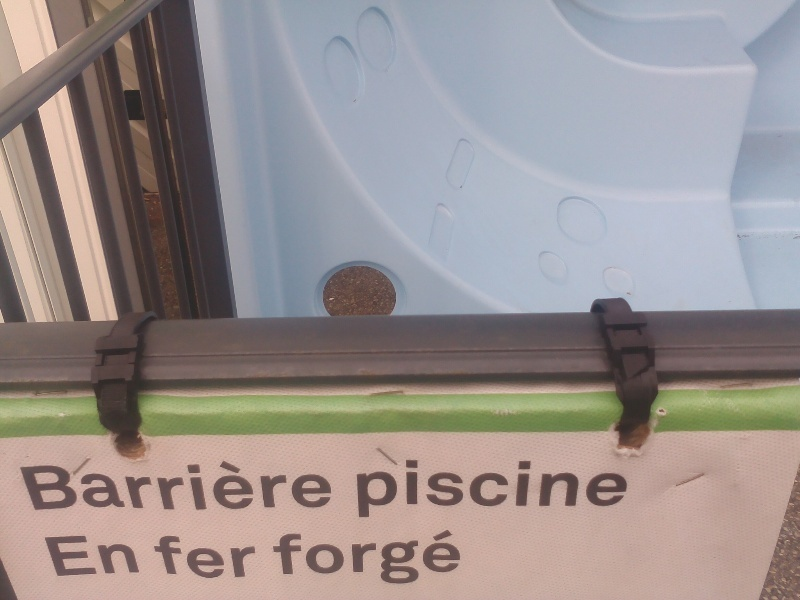text: (369, 458, 384, 519), (385, 458, 400, 519), (401, 458, 416, 519), (417, 458, 432, 519), (433, 458, 448, 519), (449, 458, 464, 519), (465, 458, 480, 519), (481, 458, 496, 519), (497, 458, 512, 519), (513, 458, 528, 519), (529, 458, 544, 519), (545, 458, 560, 519), (561, 458, 576, 519), (577, 458, 592, 519), (593, 458, 608, 519), (609, 458, 624, 519), (273, 529, 288, 585), (289, 529, 304, 585), (305, 529, 320, 585), (321, 529, 336, 585), (337, 529, 352, 585), (353, 529, 368, 585), (369, 529, 384, 585), (385, 529, 400, 585), (401, 529, 416, 585), (417, 529, 432, 585), (433, 529, 448, 585), (33, 460, 48, 512), (49, 460, 64, 512), (65, 460, 80, 512), (81, 460, 96, 512), (97, 460, 112, 512), (113, 460, 128, 512), (129, 460, 144, 512), (145, 460, 160, 512), (161, 460, 176, 512), (177, 460, 192, 512), (193, 460, 208, 512), (209, 460, 224, 512), (225, 460, 240, 512), (241, 460, 256, 512), (257, 460, 272, 512), (273, 460, 288, 512), (289, 460, 304, 512), (305, 460, 320, 512), (356, 458, 368, 519), (18, 460, 32, 512), (161, 533, 176, 581), (177, 533, 192, 581), (193, 533, 208, 581), (209, 533, 224, 581), (225, 533, 240, 581), (241, 533, 256, 581), (49, 531, 64, 577), (65, 531, 80, 577), (81, 531, 96, 577), (97, 531, 112, 577), (113, 531, 128, 577), (449, 529, 461, 585), (321, 460, 331, 512), (129, 531, 140, 577), (625, 458, 631, 519), (153, 533, 160, 581), (43, 531, 48, 577), (257, 533, 259, 581)
